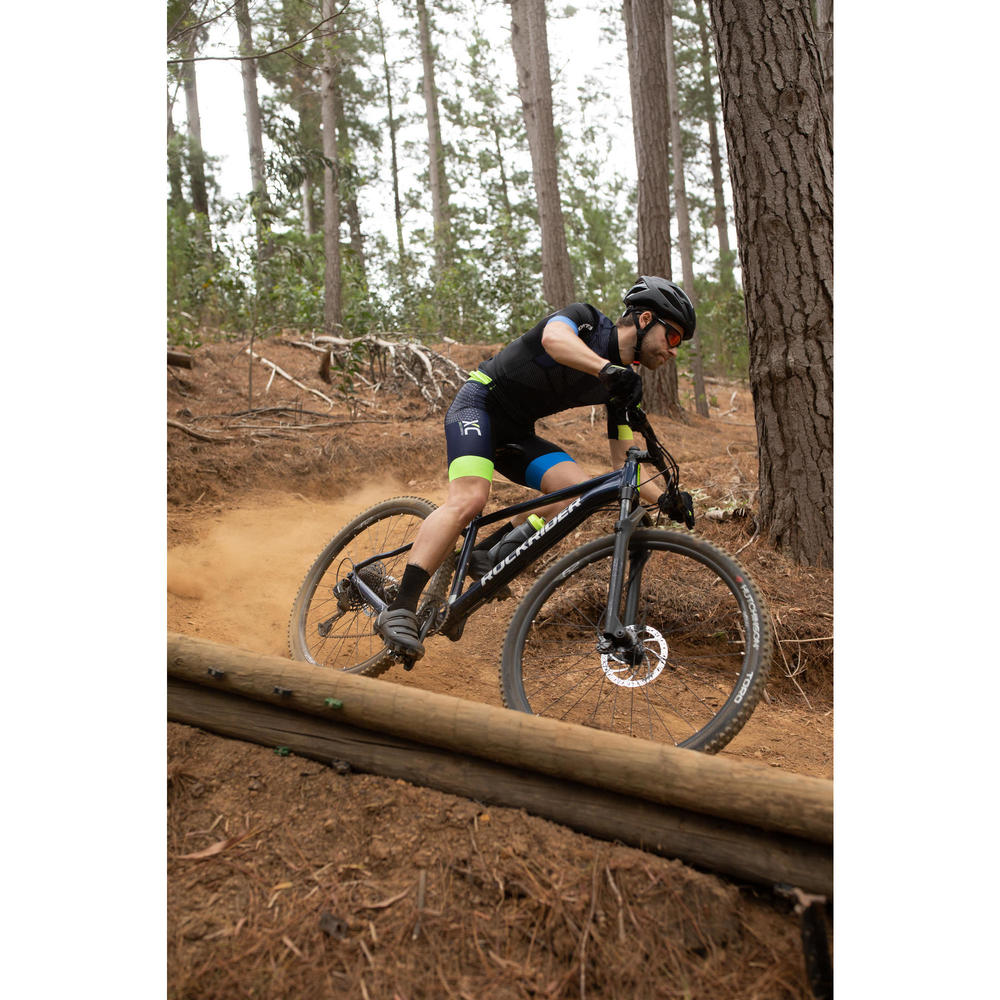MountainBike: (300, 383, 753, 741)
